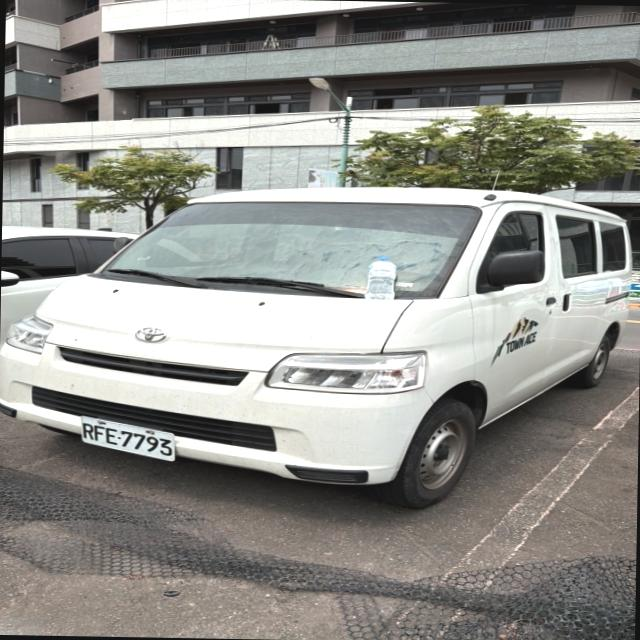license plate: (81, 416, 175, 459)
wheel: (375, 397, 473, 507)
